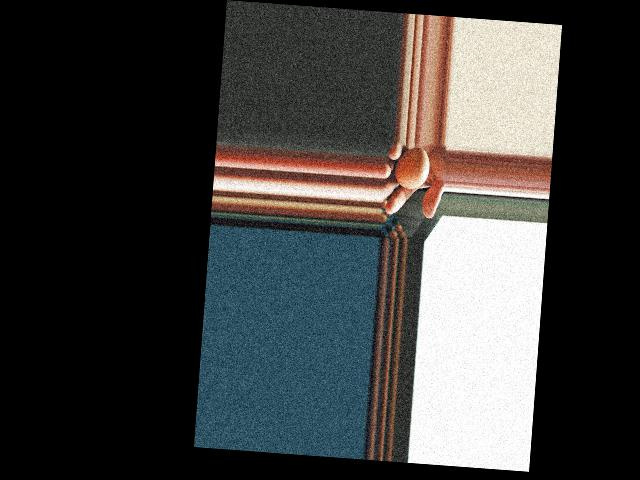egg: (392, 144, 430, 190)
